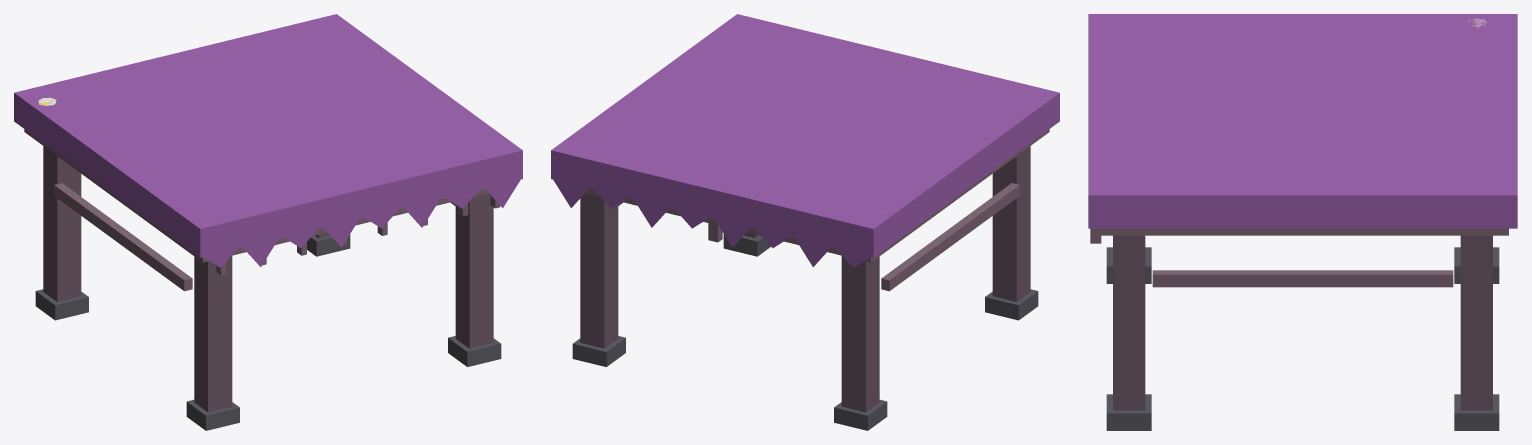
The model's file is CustomerTable.fbx.
3 renders of one model, left to right at view 1: azimuth 30°, elevation 25°; view 2: azimuth 150°, elevation 25°; view 3: azimuth 270°, elevation 25°, orthographic. The views are drawn at different scales.
Parts seen in each view (by area): view 1: CustomerTable; view 2: CustomerTable; view 3: CustomerTable.
Boxes of the visible parts, x1,y1,x2,y2 form: CustomerTable: (14,14,522,430); CustomerTable: (551,14,1059,430); CustomerTable: (1088,14,1517,430).
Size of the model in its own units: 400 by 250 by 400.
Materials: 1 (1 with a texture image).
